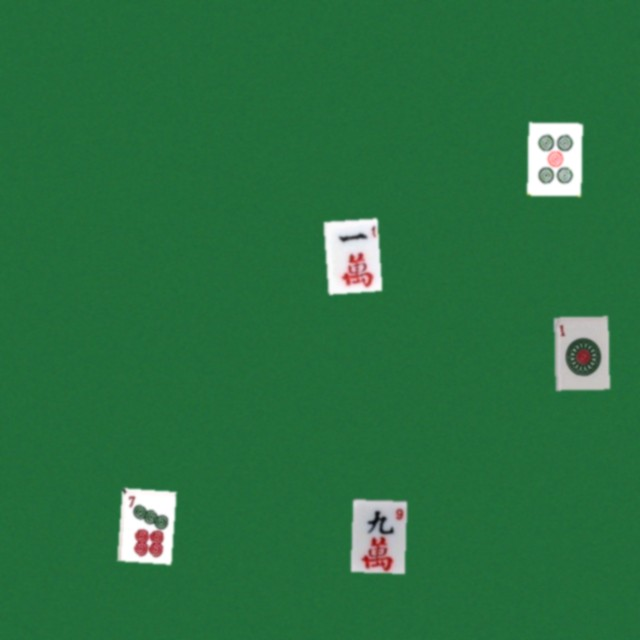tile: (323, 218, 377, 291), (117, 488, 171, 561), (350, 499, 404, 572), (554, 316, 608, 389), (527, 122, 581, 195)
